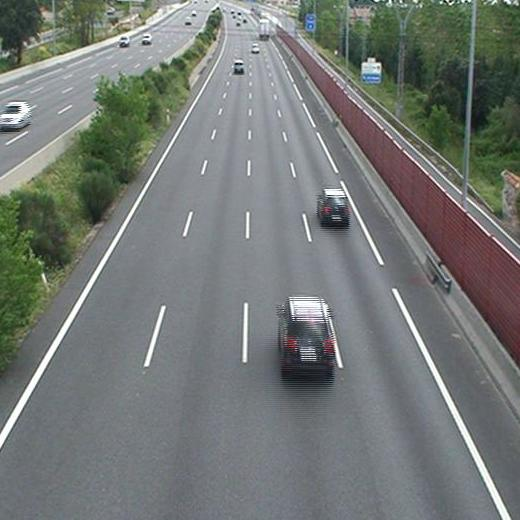car: (279, 298, 335, 365), (319, 189, 350, 222), (233, 61, 244, 74), (250, 44, 260, 53)
truck: (258, 19, 269, 38)
